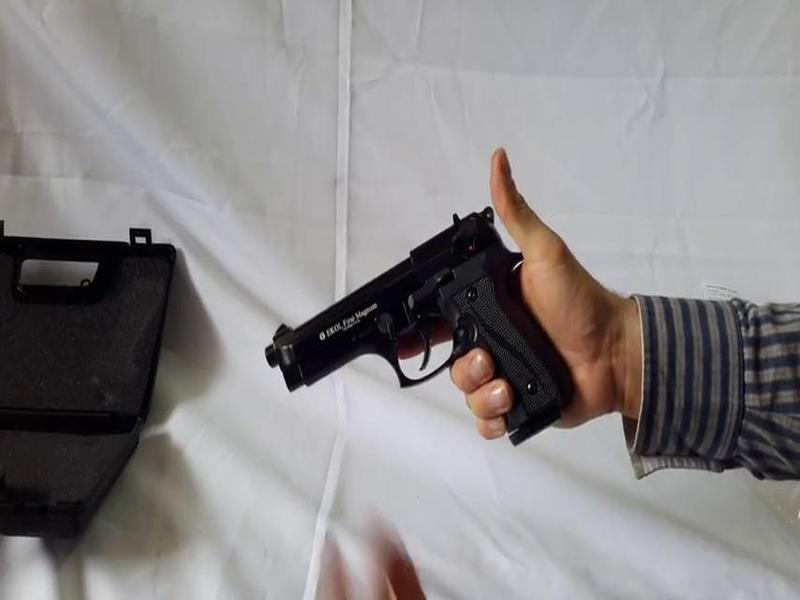Pistola: (257, 200, 573, 444)
